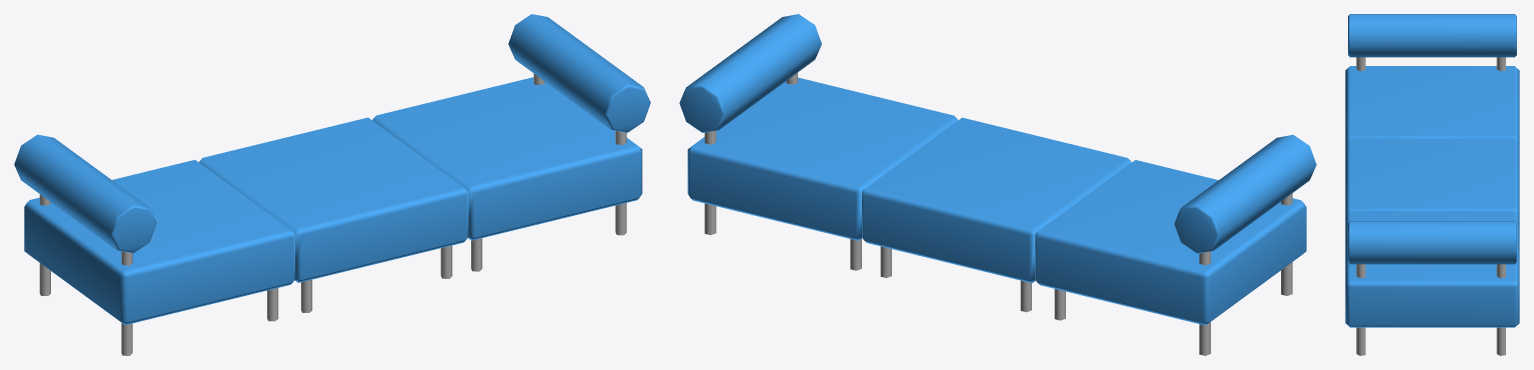
File: sofa_026.fbx
The picture shows the model from 3 angles, left to right: view 1: azimuth 30°, elevation 25°; view 2: azimuth 150°, elevation 25°; view 3: azimuth 270°, elevation 25°; orthographic projection. The views are drawn at different scales.
Visible parts, largest first — view 1: sofa_026; view 2: sofa_026; view 3: sofa_026.
Boxes of the visible parts, x1=… form: sofa_026: x1=14, y1=14, x2=650, y2=355; sofa_026: x1=679, y1=14, x2=1316, y2=355; sofa_026: x1=1345, y1=14, x2=1519, y2=355.
Size of the model in its own units: 366 by 119 by 99.51.
